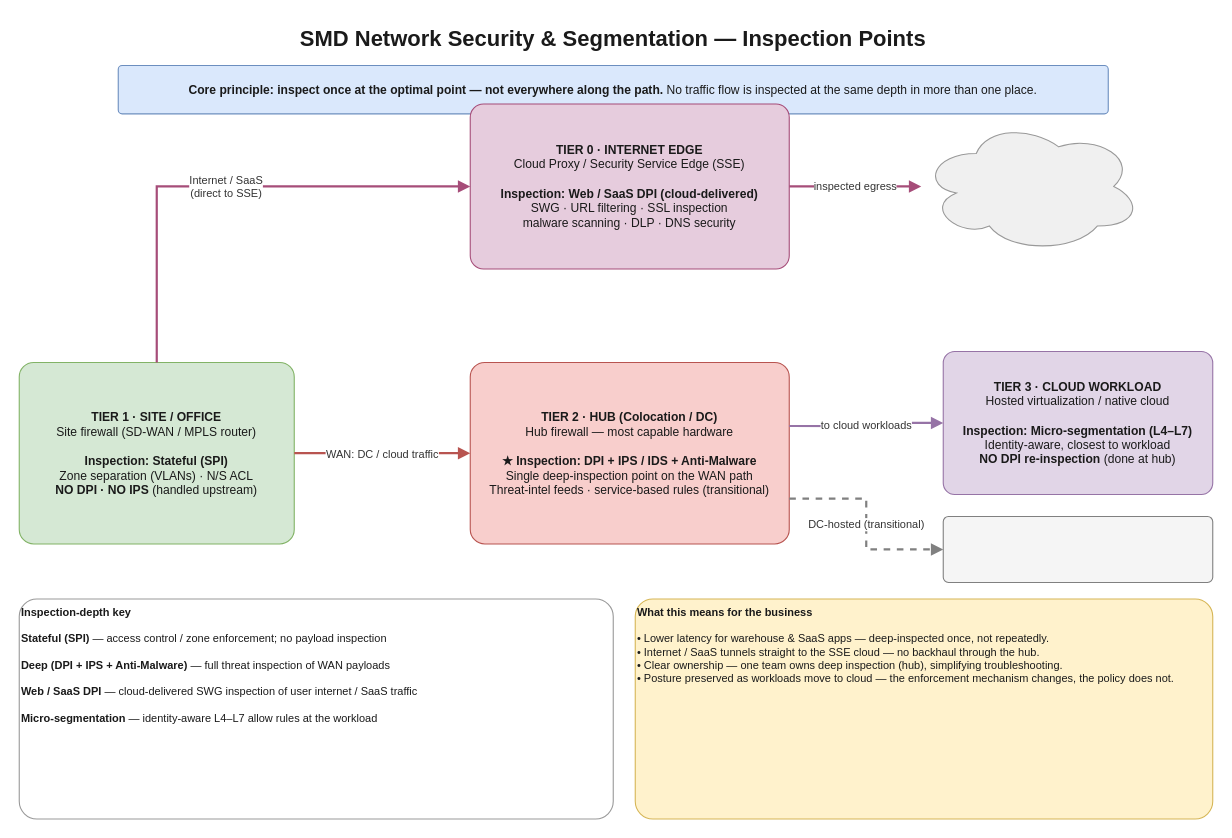
The diagram is 1232 pixels wide and 838 high, and some of its shapes have lost their labels. Here are the shapes that lost their labels. From the top down, the centre of each, then its label:
At [1030,185]: "Internet / SaaS (M365, Salesforce, web)".
At [1077,548]: "Legacy Data Center performs Tier 2 hub role (transitional)".
